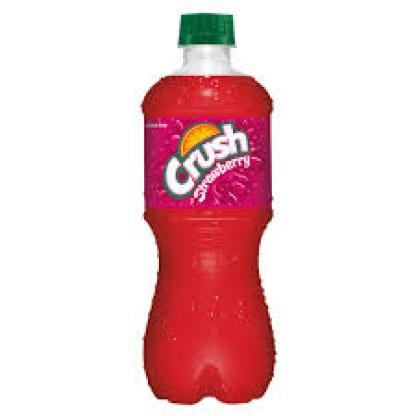trash: (142, 13, 274, 403)
